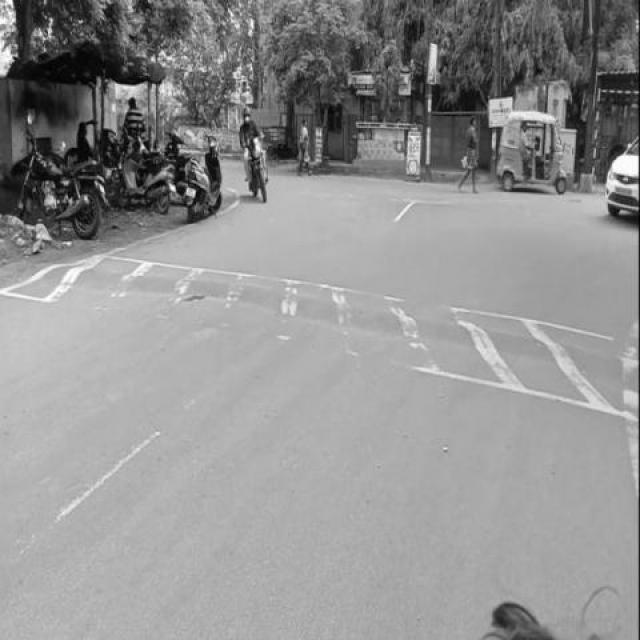Speed Bump: (47, 260, 638, 394)
